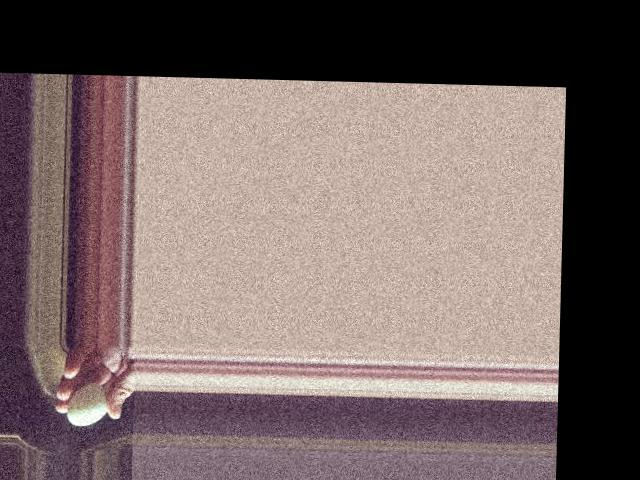egg: (68, 383, 109, 426)
